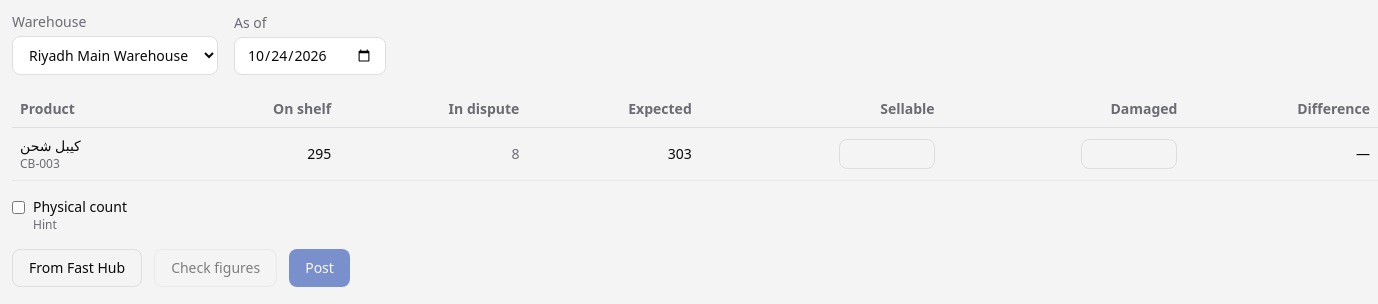
it: ReconcileForm Fast Hub prefill › fills the sellable box from Fast Hub and shows their on-hand
Click the button "From Fast Hub". click: (77, 268)
box: [12,249,142,287]
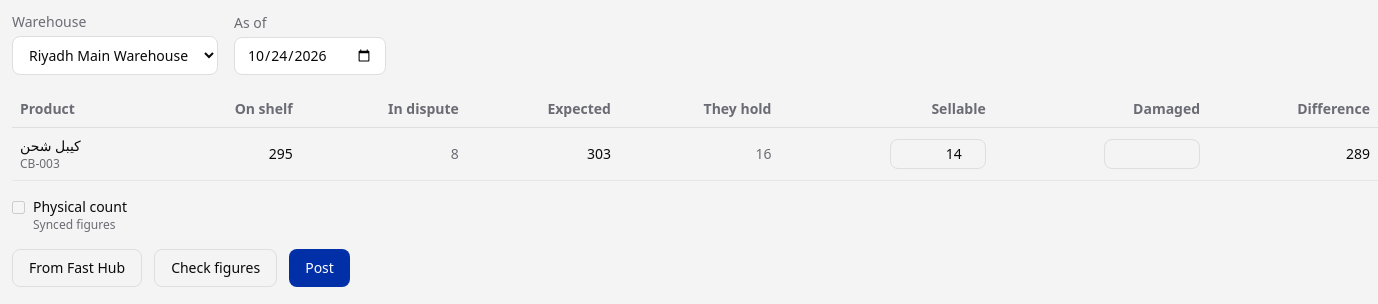
Expected: the number field named "Sellable" holds "14", [890,139,986,169]
Expected: the table shows "16", [755,144,771,163]
